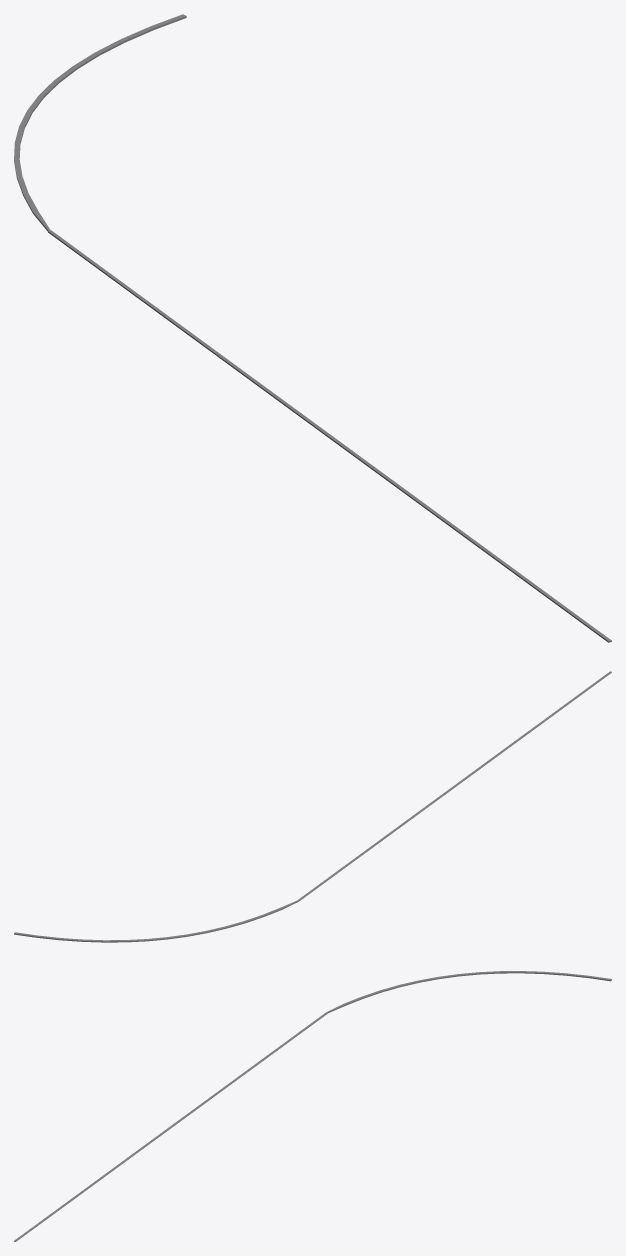
File: 轨旁条02.glb
The picture shows the model from 3 angles, top to bottom: view 1: azimuth 30°, elevation 25°; view 2: azimuth 150°, elevation 25°; view 3: azimuth 330°, elevation 25°; orthographic projection. The views are drawn at different scales.
Visible parts, largest first — view 1: 轨旁条; view 2: 轨旁条; view 3: 轨旁条.
Part boxes in pixels (<box>): 轨旁条: <box>14,14,611,642</box>; 轨旁条: <box>14,671,611,942</box>; 轨旁条: <box>14,971,611,1241</box>.
Size of the model in its own units: 67.22 by 0.3808 by 269.
1 material, 1 textured.
